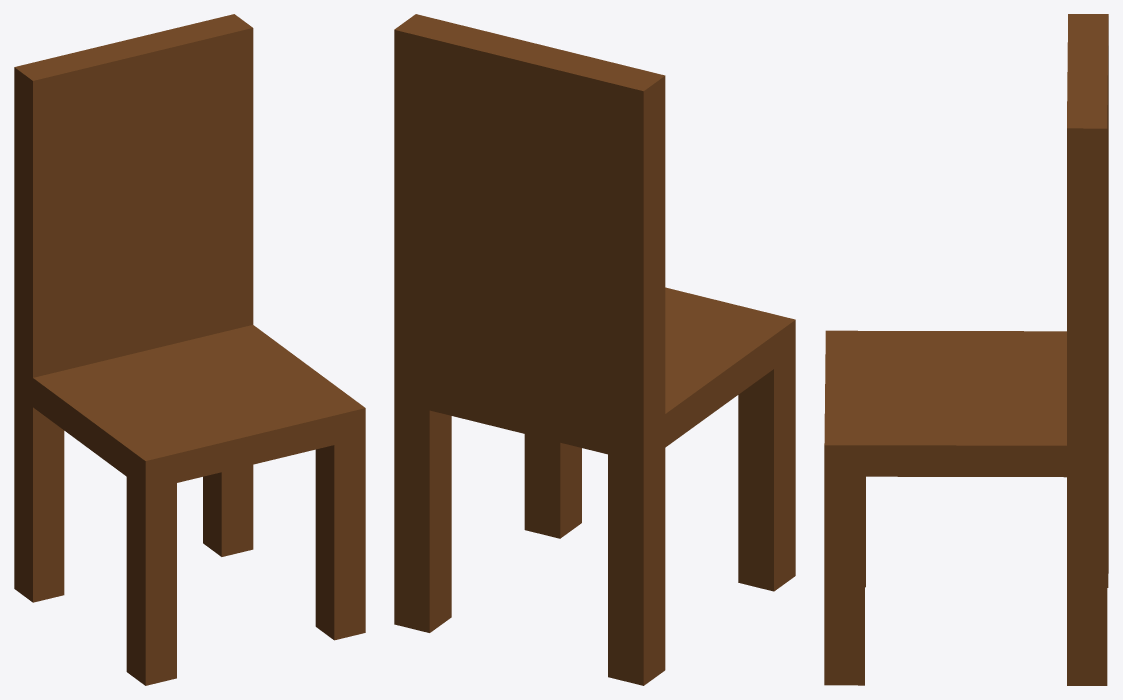
Rendered from kursi.fbx.
The picture shows the model from 3 angles, left to right: view 1: azimuth 30°, elevation 25°; view 2: azimuth 150°, elevation 25°; view 3: azimuth 270°, elevation 25°; orthographic projection. The views are drawn at different scales.
Visible parts, largest first — view 1: Cube.027; view 2: Cube.027; view 3: Cube.027.
Part boxes in pixels (x1,y1,x2,y2): Cube.027: [14, 14, 365, 685]; Cube.027: [394, 14, 795, 685]; Cube.027: [824, 14, 1108, 685].
Size of the model in its own units: 42.27 by 95.52 by 44.11.
